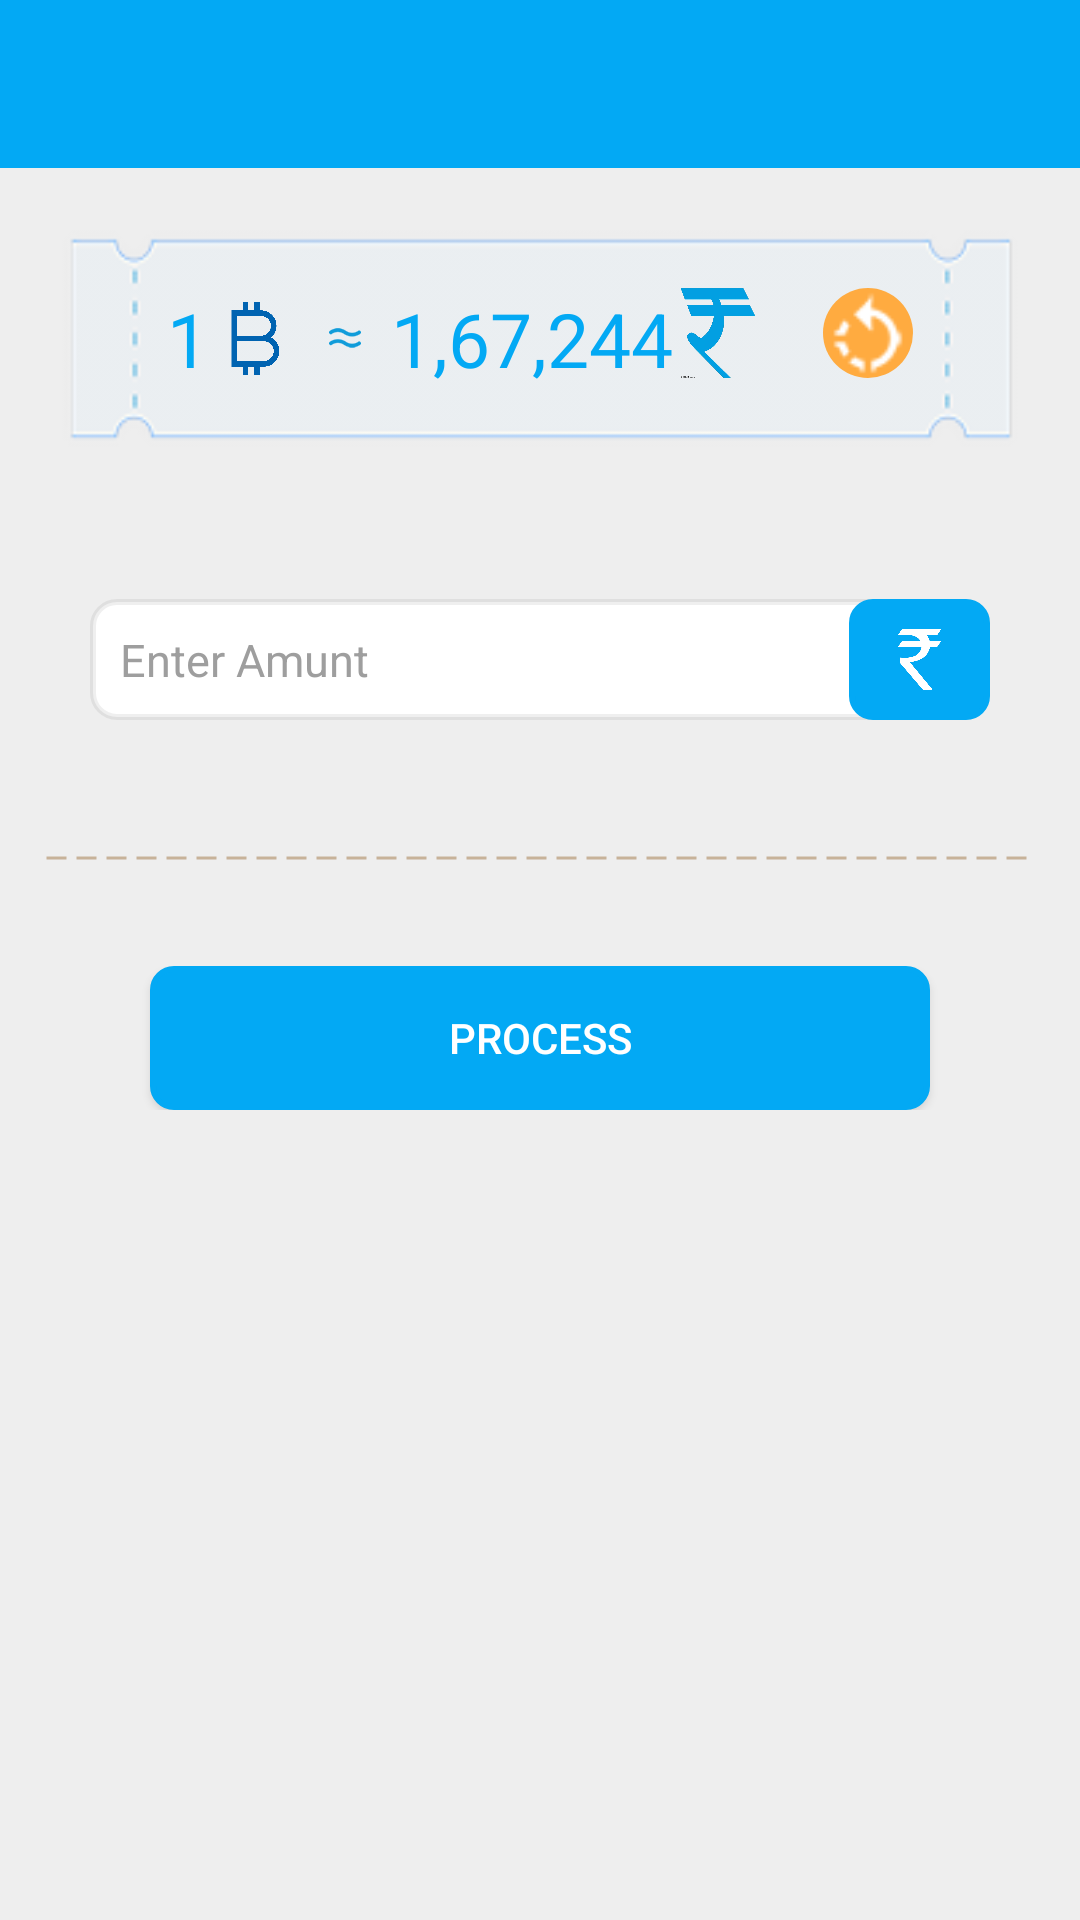

Where icons sit on this 1080w x 1920h app screen, as bbox=[x1, y1, x2, y2]:
bitcoin: bbox=[231, 302, 279, 375]
convert: bbox=[823, 288, 913, 378]
equal: bbox=[329, 328, 361, 348]
rupee: bbox=[681, 288, 755, 378], bbox=[849, 599, 990, 720]
